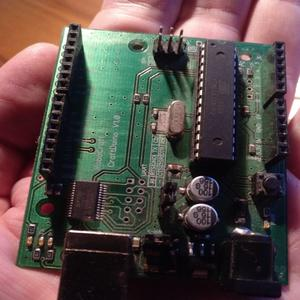duino: (20, 17, 296, 286)
